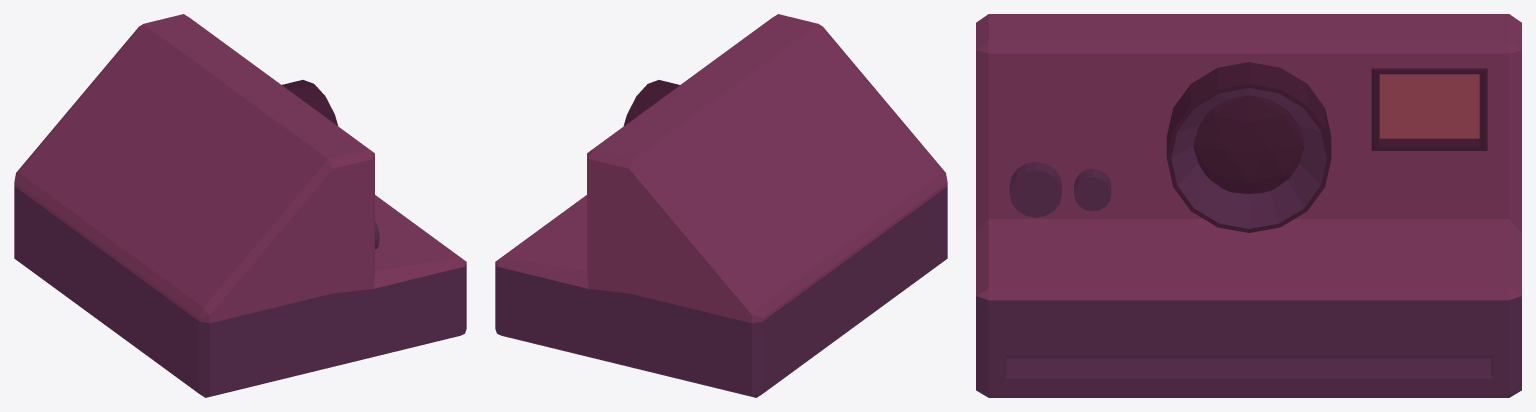
Rendered from camera.glb.
The picture shows the model from 3 angles, left to right: view 1: azimuth 30°, elevation 25°; view 2: azimuth 150°, elevation 25°; view 3: azimuth 270°, elevation 25°; orthographic projection. The views are drawn at different scales.
Visible parts, largest first — view 1: Cube, Cylinder; view 2: Cube, Cylinder; view 3: Cube, Cylinder, Icosphere, Cylinder.001, Cylinder.002.
Boxes of the visible parts, x1,y1,x2,y2 form: Cube: (14, 14, 466, 397); Cylinder: (282, 80, 337, 125); Cube: (495, 14, 947, 397); Cylinder: (623, 80, 679, 125); Cube: (976, 14, 1521, 397); Cylinder: (1166, 62, 1331, 232); Icosphere: (1193, 95, 1304, 193); Cylinder.001: (1009, 162, 1061, 217); Cylinder.002: (1074, 168, 1111, 211).
Bounding box in the file's own units: 3.6 × 2.69 × 4.53.
1 material, 1 textured.
